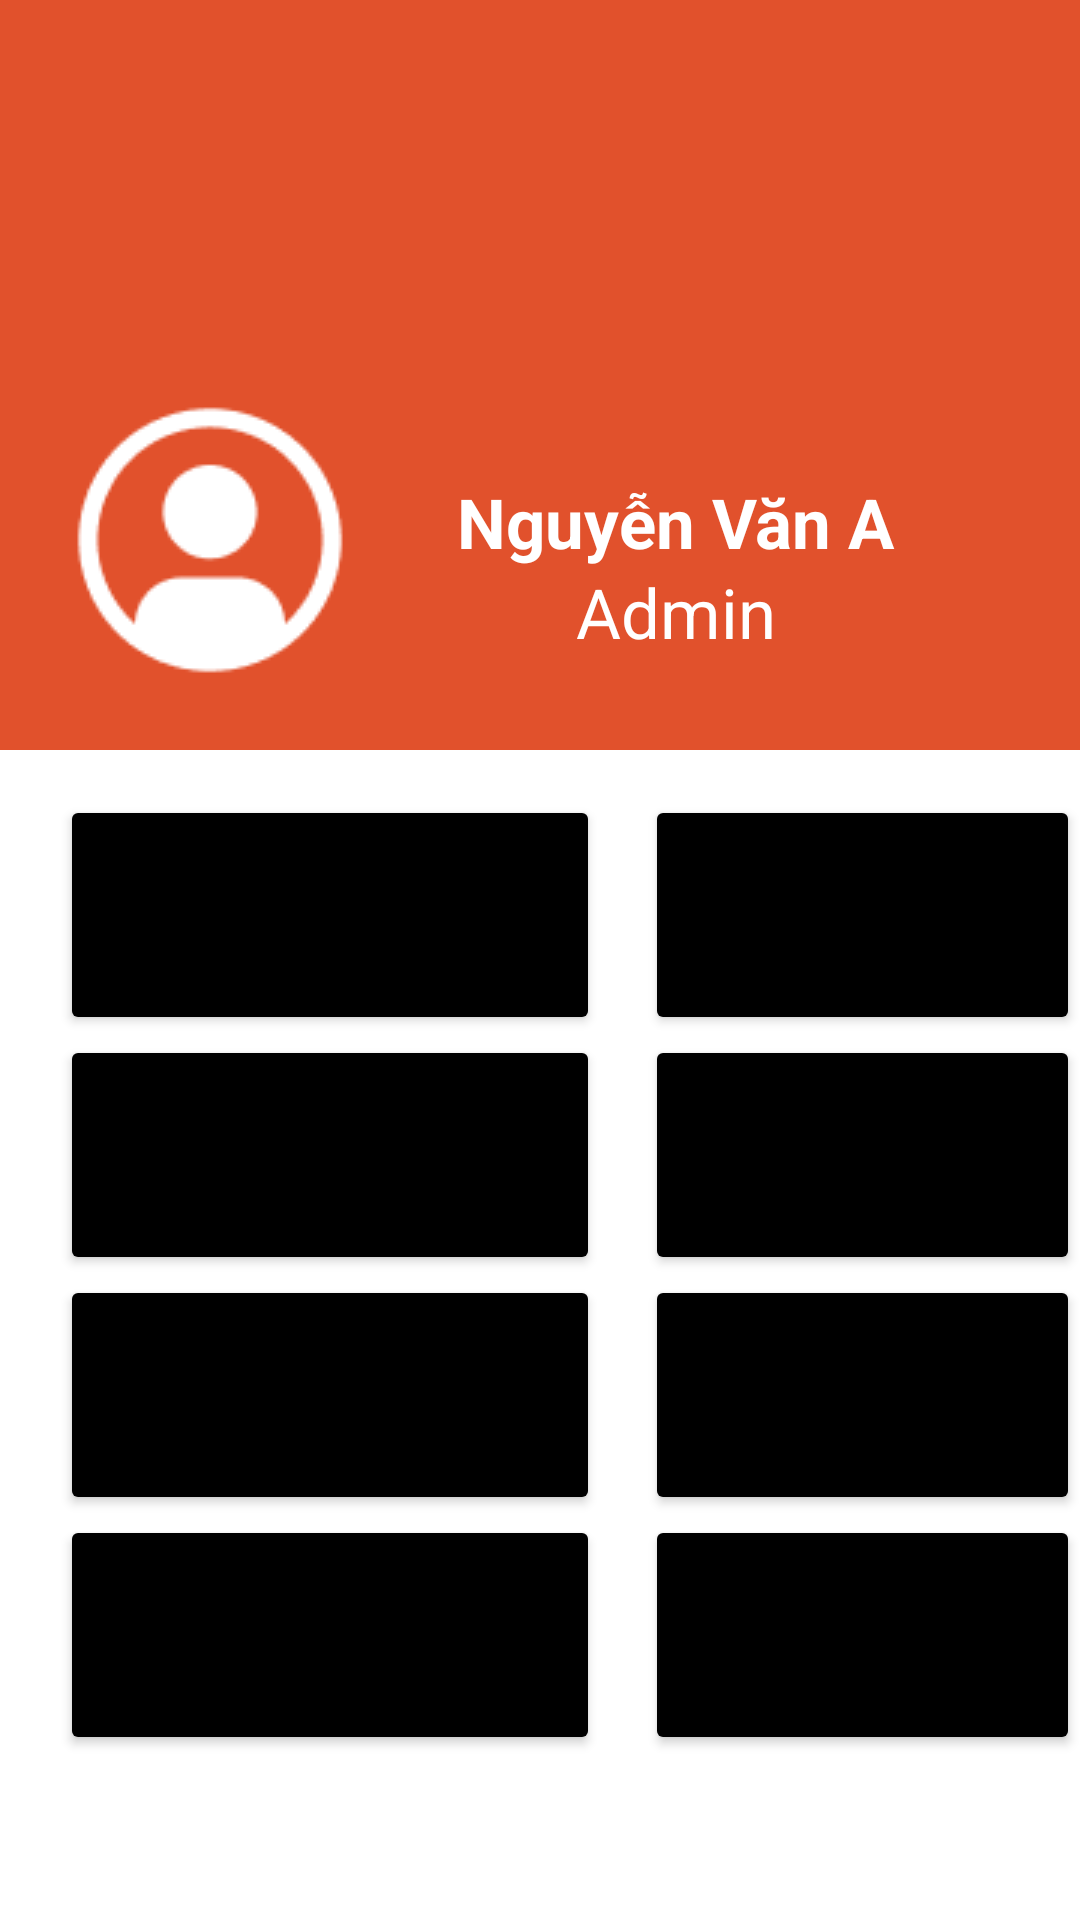

Icon click points for this 1080px×1920px phone screenshot, format [x,y]:
user: [210,540]
